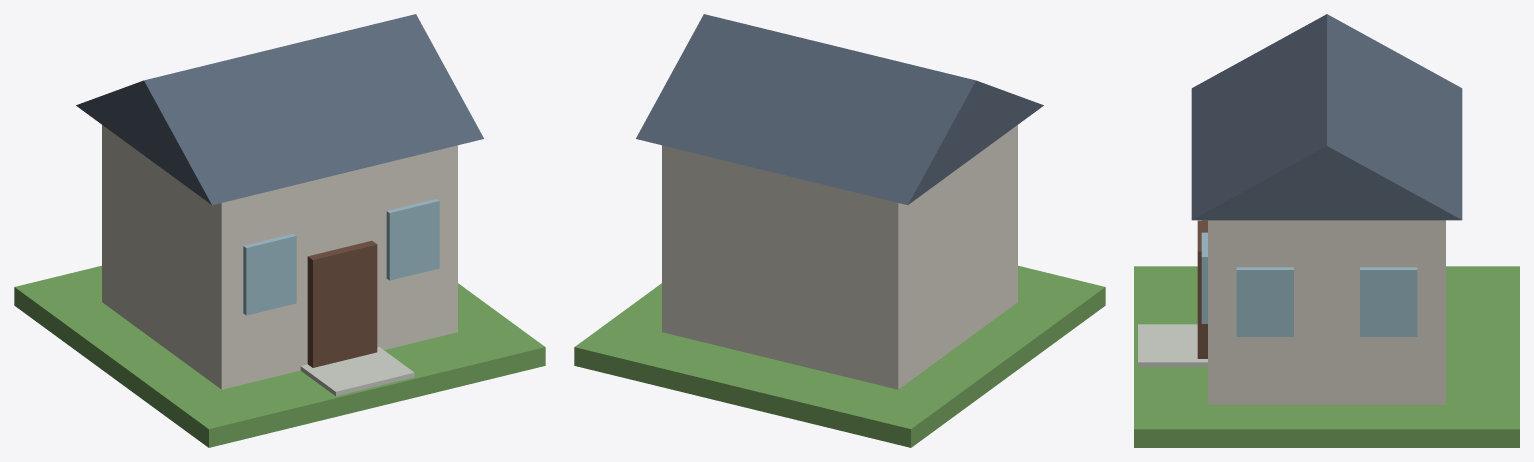
Rendered from cityHall-1.glb.
3 views of the same model, side by side, from view 1: azimuth 30°, elevation 25°; view 2: azimuth 150°, elevation 25°; view 3: azimuth 270°, elevation 25° (orthographic).
Parts seen in each view (by area): view 1: cityHall-1; view 2: cityHall-1; view 3: cityHall-1.
Part boxes in pixels (x1=…): cityHall-1: x1=14, y1=14, x2=545, y2=447; cityHall-1: x1=574, y1=14, x2=1105, y2=447; cityHall-1: x1=1134, y1=14, x2=1519, y2=447.
Size of the model in its own units: 0.94 by 0.77 by 0.94.
